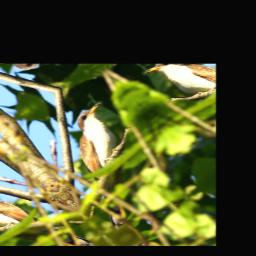Cuckoo: (26, 98, 188, 233)
